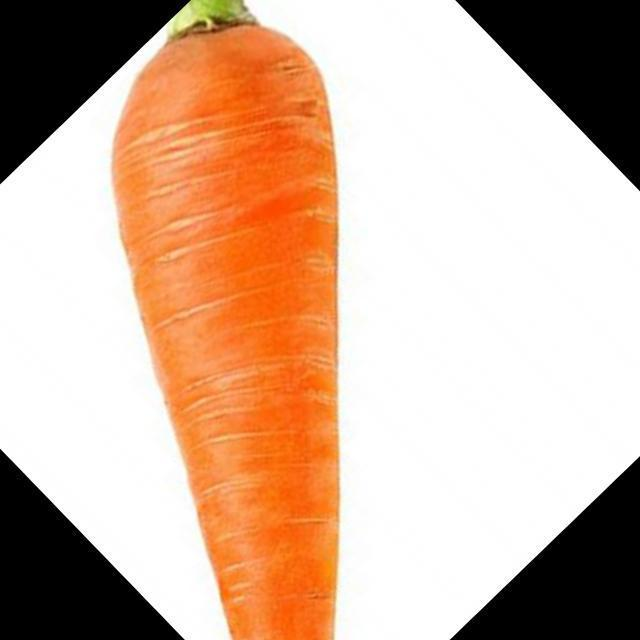Carrot: (112, 0, 339, 639)
